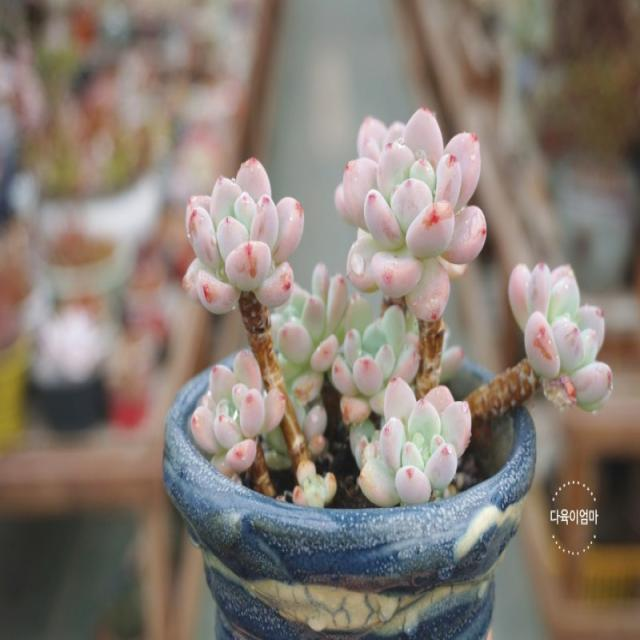LumiRose: (335, 107, 486, 320), (278, 263, 419, 452), (184, 158, 304, 312), (351, 377, 471, 506), (509, 263, 612, 410), (191, 349, 285, 494)
